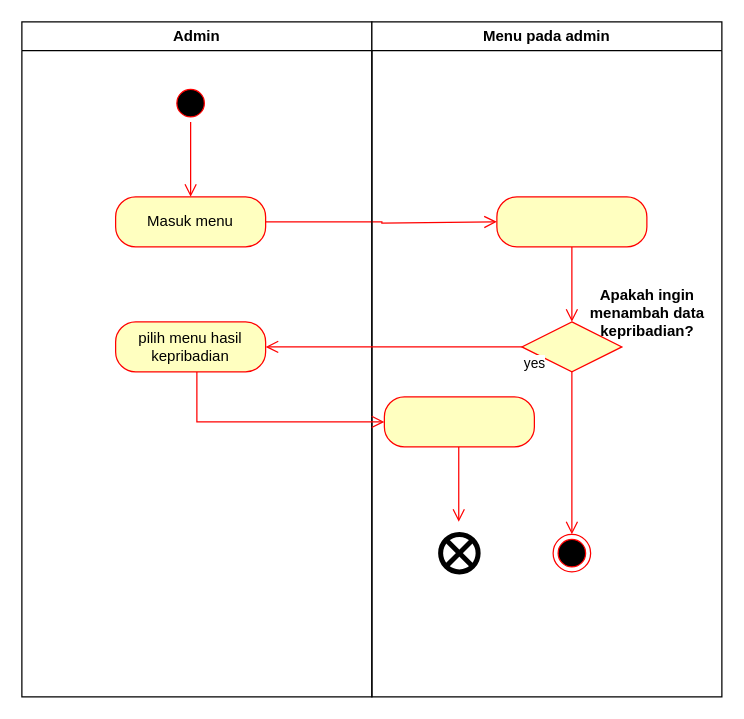
This 744x719 diagram has some shape labels left out. Here are the shapes that lost their labels. From the top down, the centre of each, then its label:
At (x=571, y=221): "menampilkan menu website".
At (x=458, y=421): "menampilkan hasil kepribadian".
